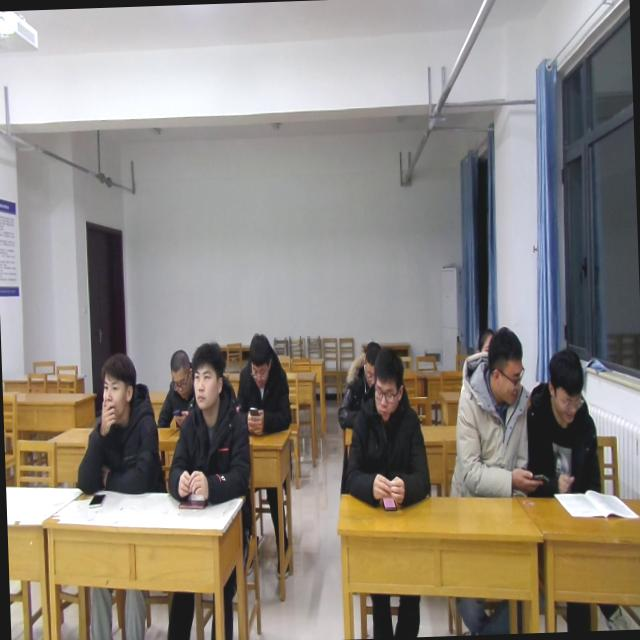bow: (233, 330, 294, 434), (334, 336, 386, 430)
down: (542, 344, 588, 430), (371, 347, 406, 422), (244, 328, 274, 388), (166, 340, 194, 398), (358, 337, 382, 385)
lookup: (188, 336, 229, 414), (97, 348, 140, 422)
sit: (336, 346, 431, 514), (444, 323, 532, 501), (162, 340, 255, 508), (71, 349, 164, 498), (523, 344, 604, 498), (153, 346, 200, 428)
